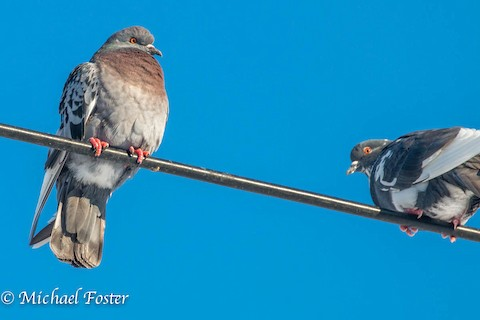pigeon: (25, 21, 169, 273), (336, 123, 477, 249)
